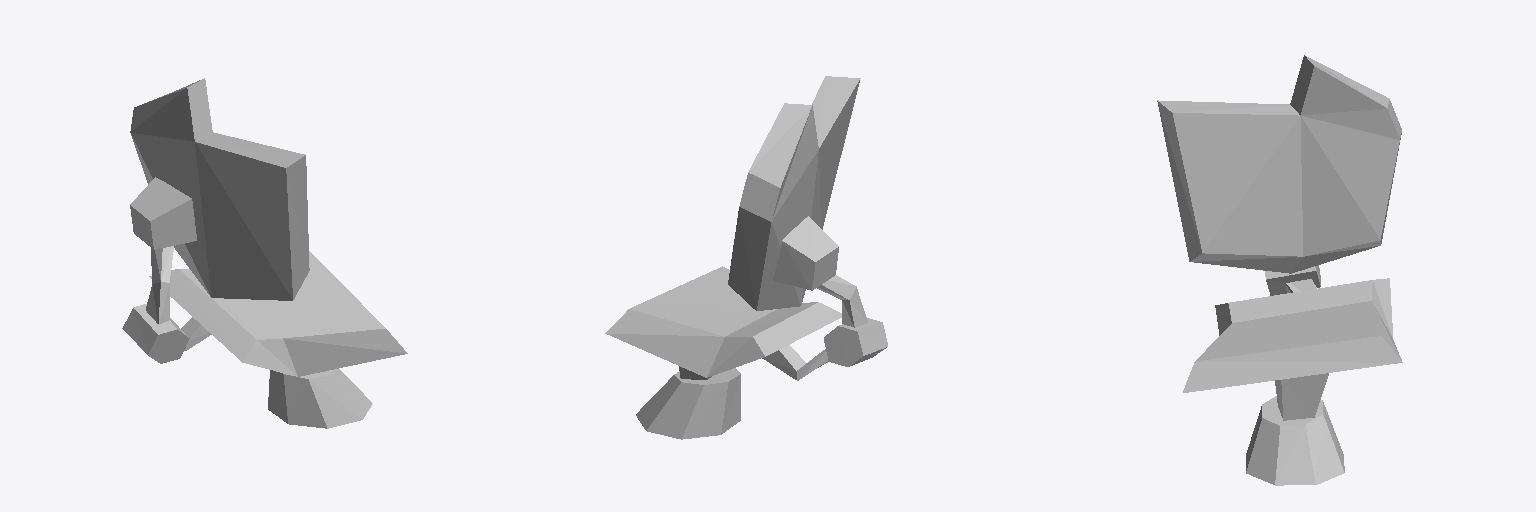
Rendered from gnomechair01.obj.
The picture shows the model from 3 angles: view 1: azimuth 30°, elevation 25°; view 2: azimuth 150°, elevation 25°; view 3: azimuth 270°, elevation 25°; orthographic projection.
Visible parts, largest first — view 1: GnomeChair01; view 2: GnomeChair01; view 3: GnomeChair01.
Boxes of the visible parts, box(x1,y1,x2,y2) form: GnomeChair01: box(122, 78, 407, 428); GnomeChair01: box(605, 76, 887, 439); GnomeChair01: box(1157, 55, 1402, 485).
Bounding box in the file's own units: 1.08 × 1.56 × 0.9982.